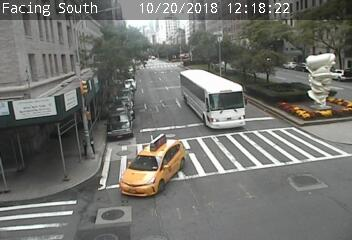car: (120, 136, 186, 197), (180, 69, 245, 130)
